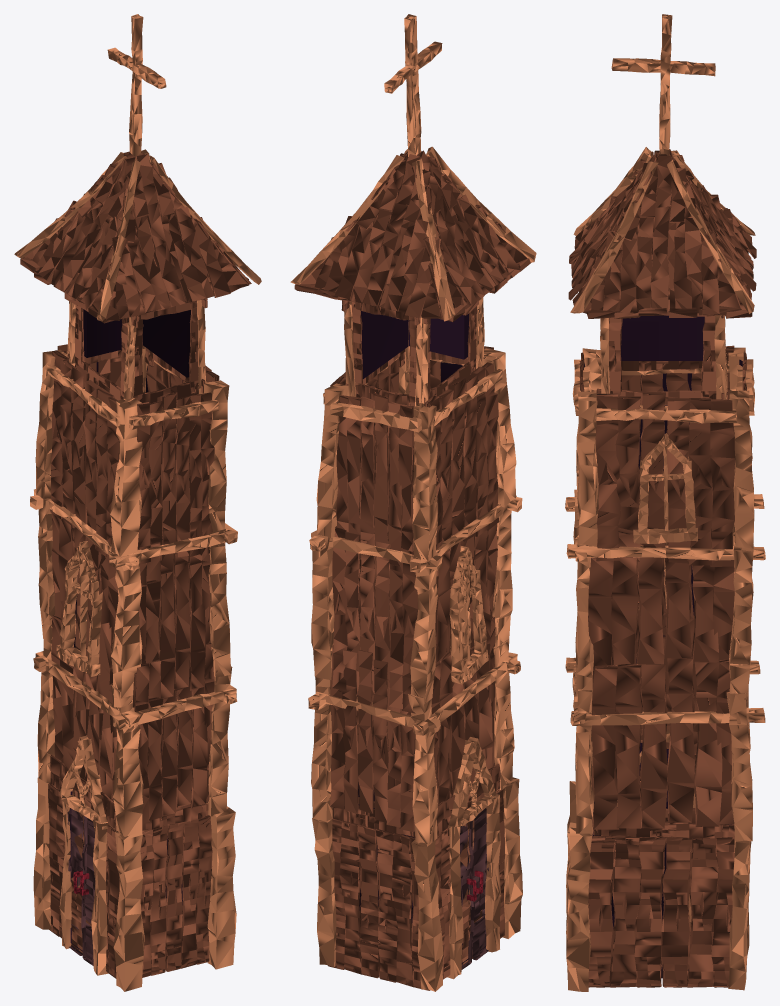
The model's file is TowerAsset.fbx.
3 renders of one model, left to right at view 1: azimuth 30°, elevation 25°; view 2: azimuth 150°, elevation 25°; view 3: azimuth 270°, elevation 25°, orthographic. The views are drawn at different scales.
Visible parts, largest first — view 1: Tower_2; view 2: Tower_2; view 3: Tower_2.
Boxes of the visible parts, bbox=[...] form: Tower_2: bbox=[14, 14, 261, 991]; Tower_2: bbox=[290, 14, 536, 991]; Tower_2: bbox=[565, 14, 765, 991].
Bounding box in the file's own units: 1052 × 5797 × 1109.
